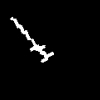double_crochet: (11, 17, 53, 61)
